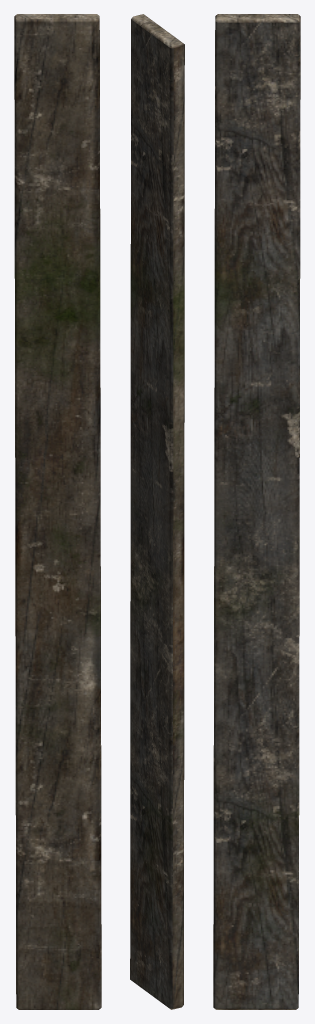
Rendered from Wood_Plank_B.fbx.
3 views of the same model, side by side, from view 1: azimuth 90°, elevation 25°; view 2: azimuth 210°, elevation 25°; view 3: azimuth 270°, elevation 25° (orthographic). The views are drawn at different scales.
Visible parts, largest first — view 1: Wood_Plank_B_LOD0; view 2: Wood_Plank_B_LOD0; view 3: Wood_Plank_B_LOD0.
Part boxes in pixels (<box>): Wood_Plank_B_LOD0: <box>14,14,101,1009</box>; Wood_Plank_B_LOD0: <box>130,14,184,1009</box>; Wood_Plank_B_LOD0: <box>213,14,300,1009</box>.
Size of what is drawn, in the model's own units: 3.03 by 190 by 15.16.
